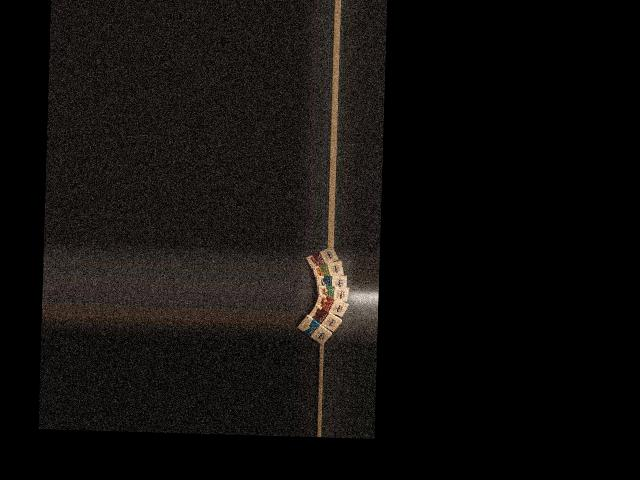chocolate: (294, 314, 333, 343)
